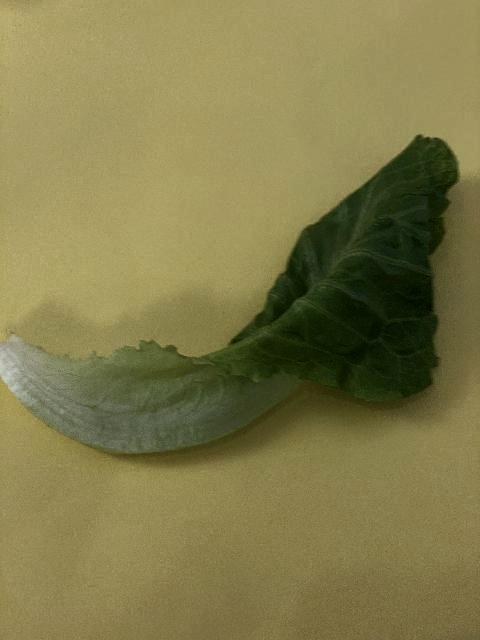lettuce: (3, 131, 461, 459)
